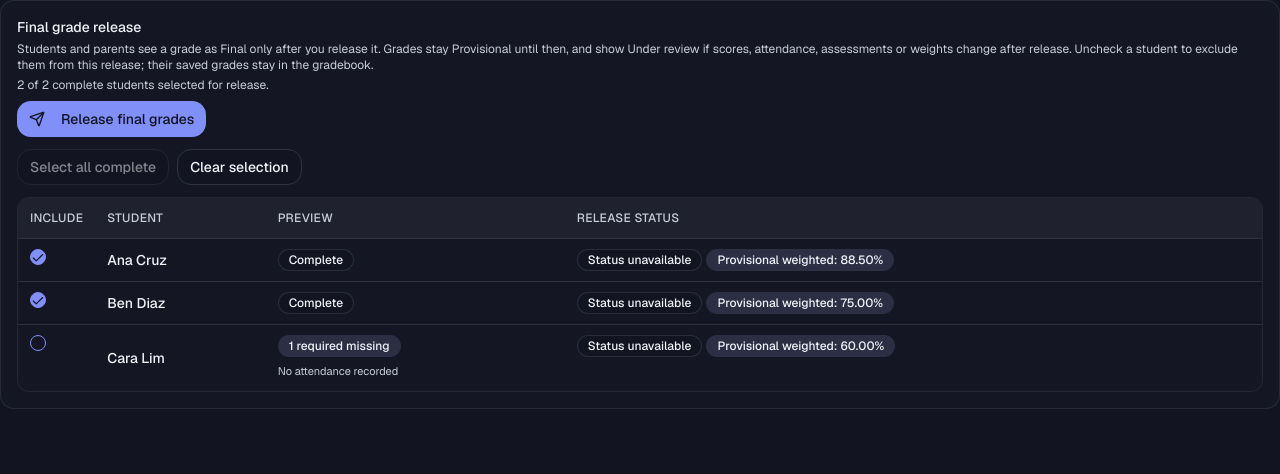
Test: FinalGradeReleasePanel › disables release when no students are selected
Click the button "Clear selection".
click(239, 167)  # box [177,149,302,185]
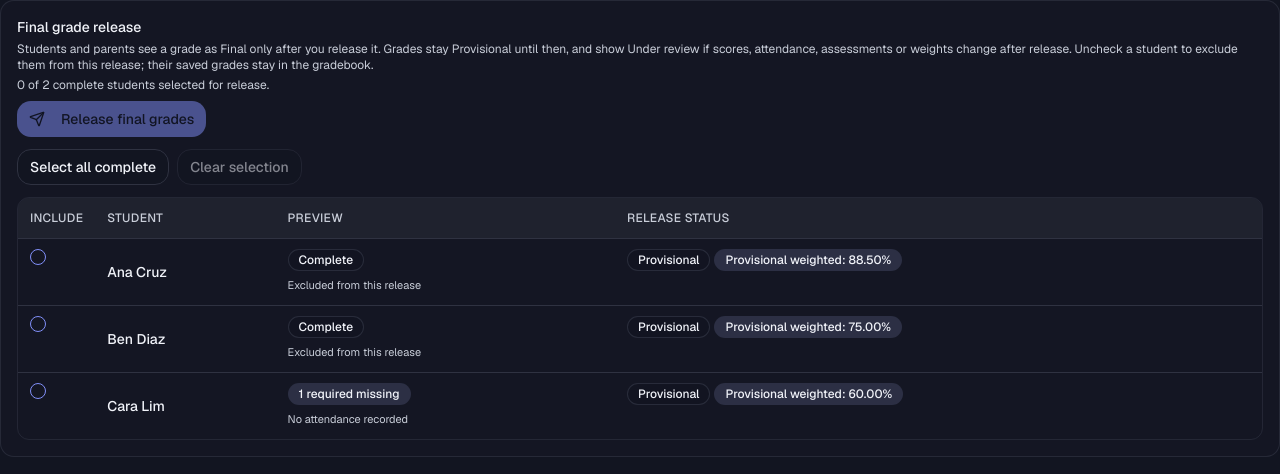
Expected: the button "Release final grades" is disabled, [17,101,206,137]
